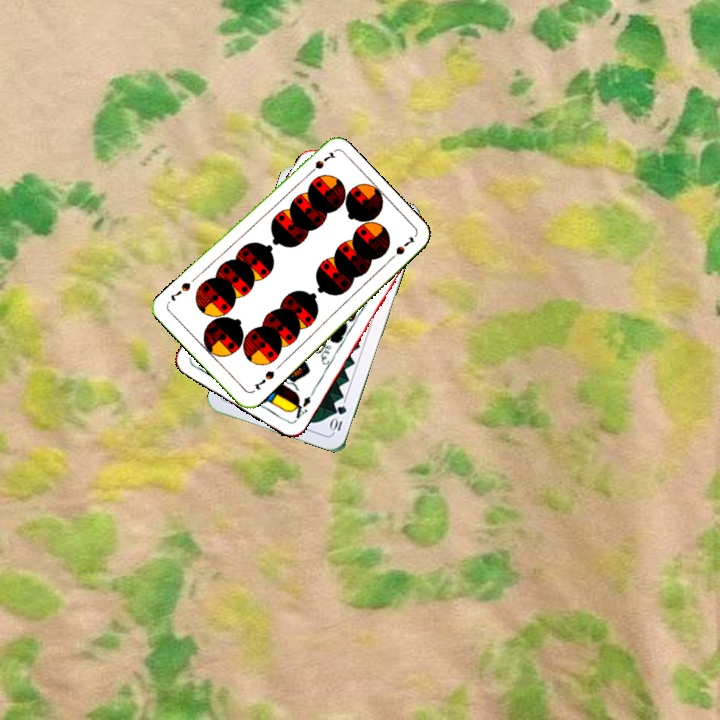EA: (287, 392, 313, 422)
G10: (327, 401, 349, 435)
S7: (303, 148, 337, 179), (250, 366, 277, 393)
